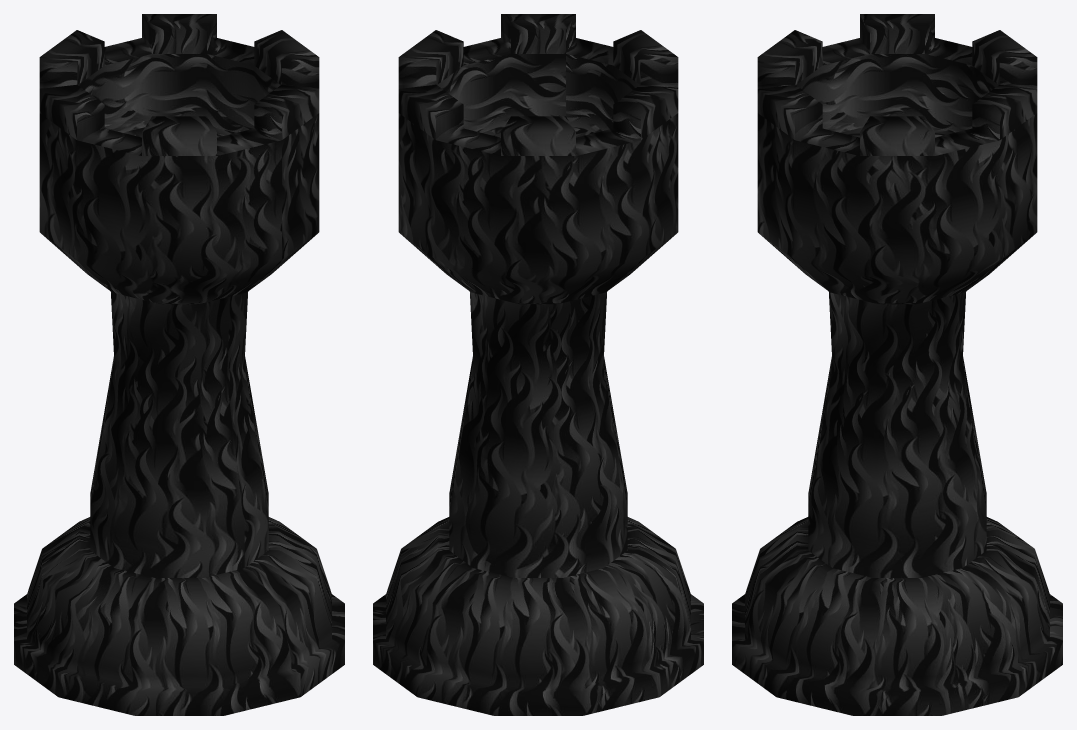
The model's file is Rook.glb.
The picture shows the model from 3 angles, left to right: view 1: azimuth 30°, elevation 25°; view 2: azimuth 150°, elevation 25°; view 3: azimuth 270°, elevation 25°; orthographic projection.
Parts seen in each view (by area): view 1: Rook; view 2: Rook; view 3: Rook.
Boxes of the visible parts, x1,y1,x2,y2 form: Rook: [14, 14, 344, 715]; Rook: [373, 14, 703, 715]; Rook: [732, 14, 1062, 715].
Bounding box in the file's own units: 0.1256 × 0.24 × 0.1256.
1 material, 1 textured.
